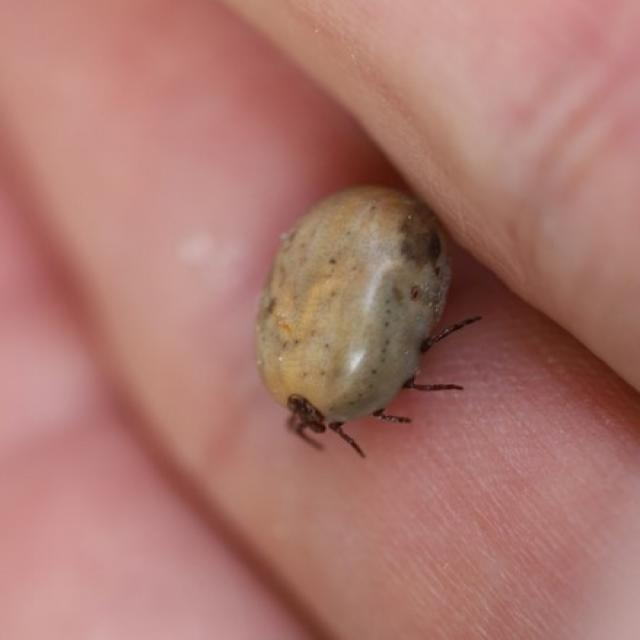Dermacentor Reticulatus-F-Fed: (254, 182, 483, 458)
